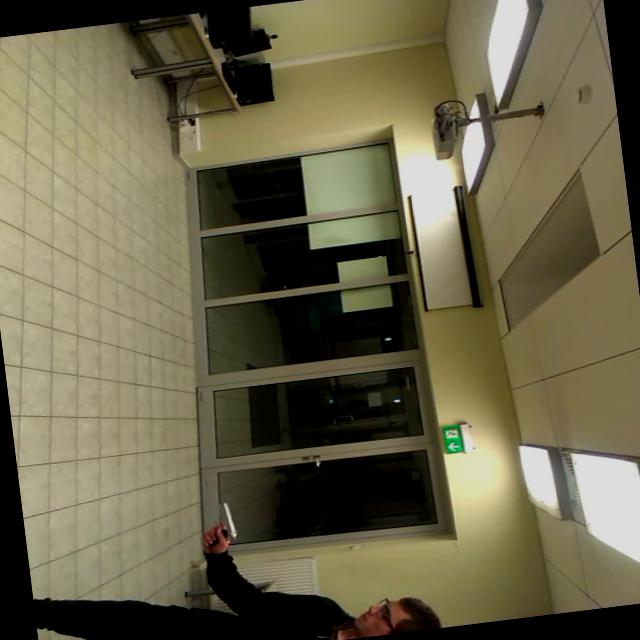handgun: (181, 496, 247, 558)
